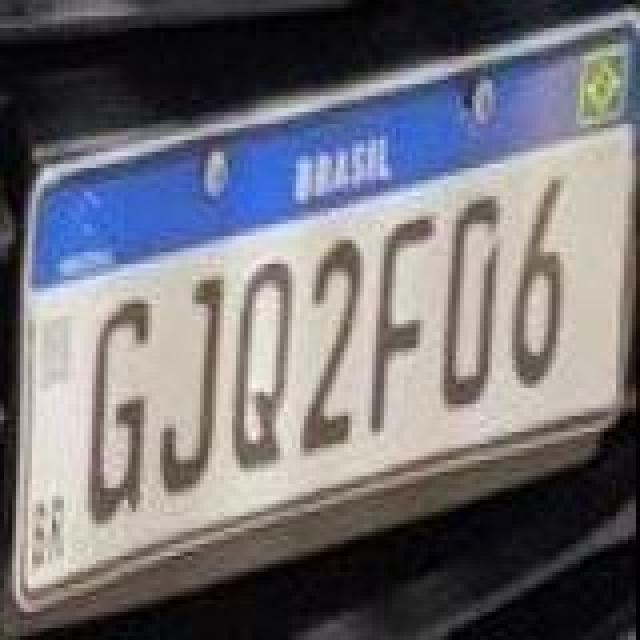2: (302, 232, 366, 456)
6: (510, 172, 566, 388)
D: (440, 190, 500, 410)
F: (370, 210, 434, 430)
G: (84, 294, 152, 530)
J: (156, 272, 224, 496)
Q: (230, 258, 294, 470)
